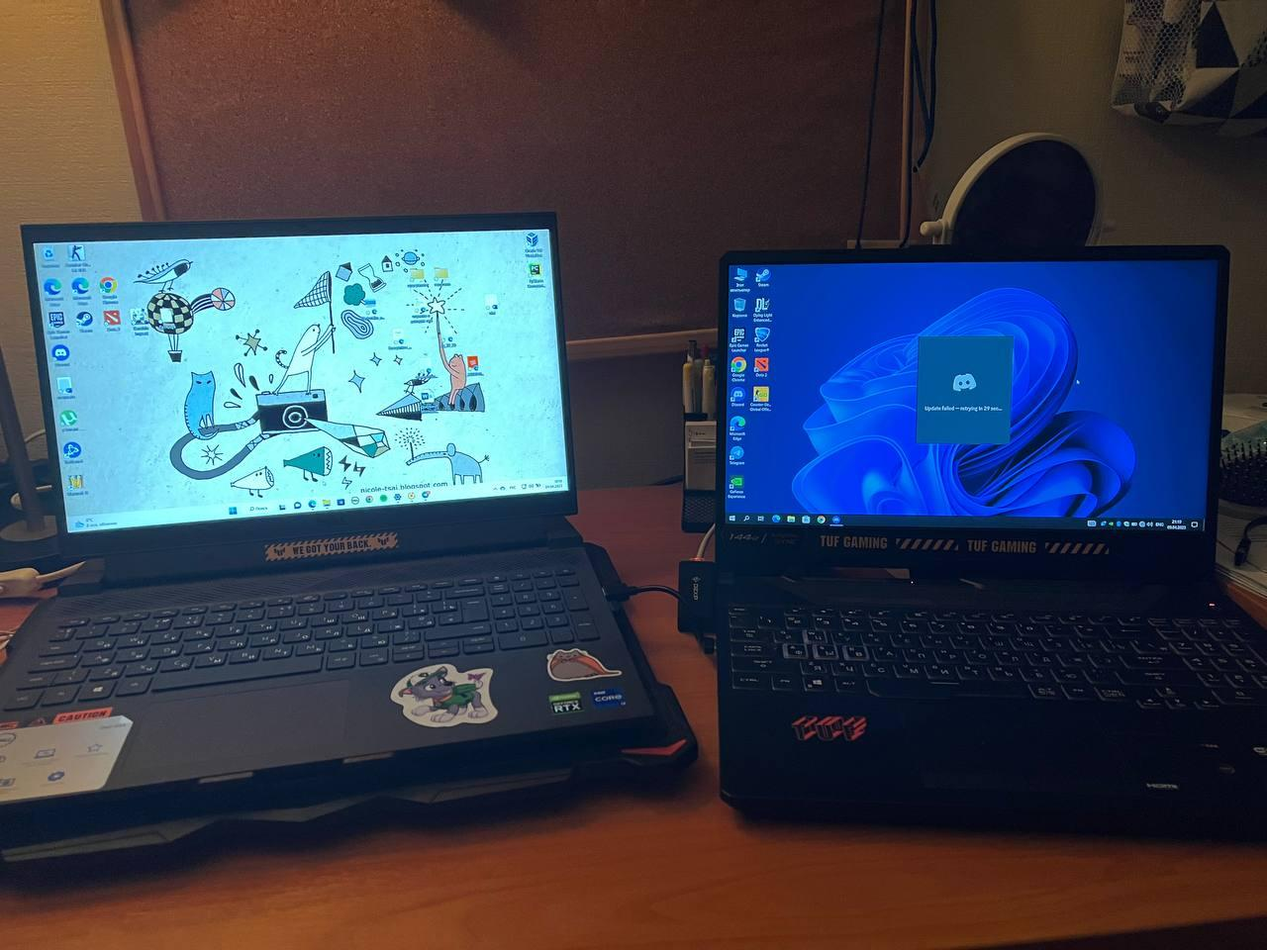monitor: (20, 207, 577, 563), (712, 242, 1235, 571)
